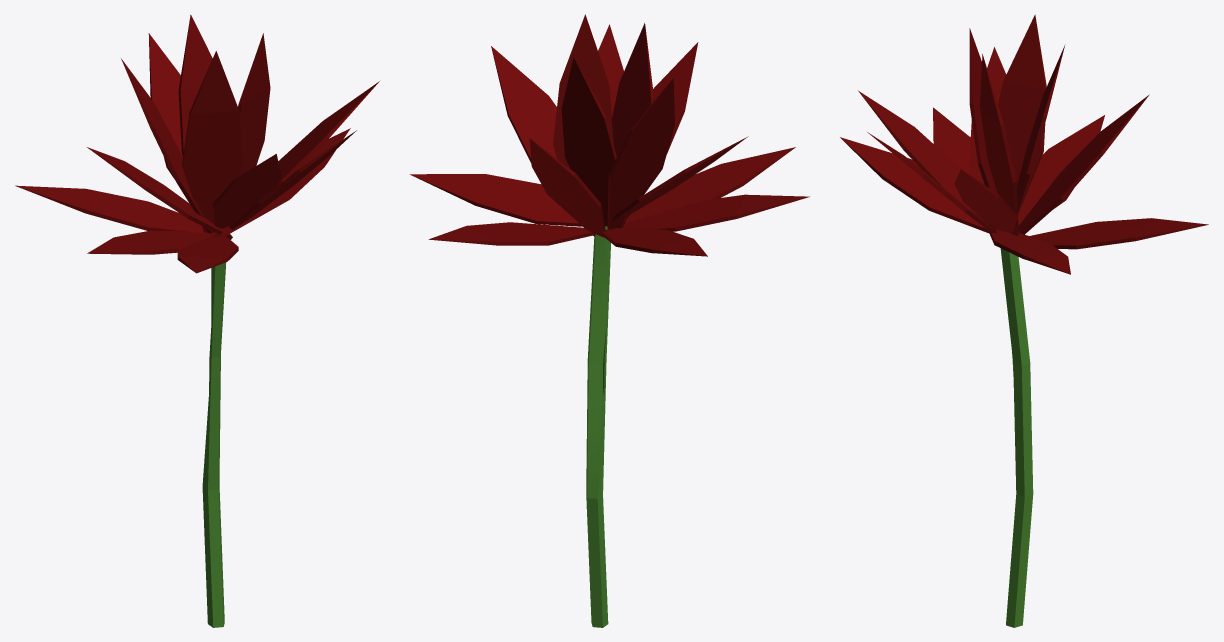
Rendered from flower2.obj.
The picture shows the model from 3 angles, left to right: view 1: azimuth 30°, elevation 25°; view 2: azimuth 150°, elevation 25°; view 3: azimuth 270°, elevation 25°; orthographic projection.
Parts seen in each view (by area): view 1: Plant_e_02_LOD0_Untitled.000; view 2: Plant_e_02_LOD0_Untitled.000; view 3: Plant_e_02_LOD0_Untitled.000.
Part boxes in pixels (x1=…): Plant_e_02_LOD0_Untitled.000: x1=15, y1=14, x2=379, y2=627; Plant_e_02_LOD0_Untitled.000: x1=410, y1=14, x2=809, y2=627; Plant_e_02_LOD0_Untitled.000: x1=840, y1=14, x2=1208, y2=627.
Bounding box in the file's own units: 0.5858 × 0.9974 × 0.572.
